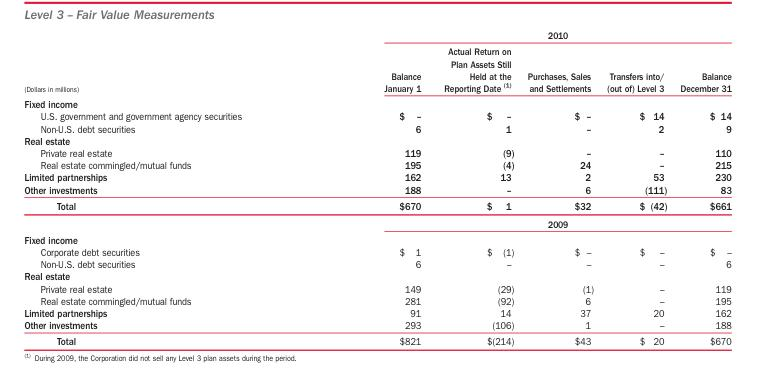table: (23, 29, 730, 347)
table column: (23, 29, 312, 347), (312, 29, 431, 347), (431, 29, 520, 347), (520, 29, 599, 347), (599, 29, 673, 347), (673, 29, 730, 347)
table column header: (23, 29, 730, 95)
table projected row header: (23, 95, 730, 109), (23, 231, 730, 245), (23, 269, 730, 282), (23, 134, 730, 146)
table row: (23, 43, 730, 95), (23, 197, 730, 214), (23, 214, 730, 231), (23, 332, 730, 347), (23, 29, 730, 43), (23, 95, 730, 109), (23, 183, 730, 197), (23, 231, 730, 245), (23, 318, 730, 332), (23, 109, 730, 122), (23, 170, 730, 183), (23, 269, 730, 282), (23, 293, 730, 306), (23, 122, 730, 134), (23, 134, 730, 146), (23, 146, 730, 158), (23, 158, 730, 170), (23, 245, 730, 257), (23, 257, 730, 269), (23, 306, 730, 318), (23, 282, 730, 293)
table spanning cell: (23, 29, 312, 95), (312, 214, 730, 231), (312, 29, 730, 43)
